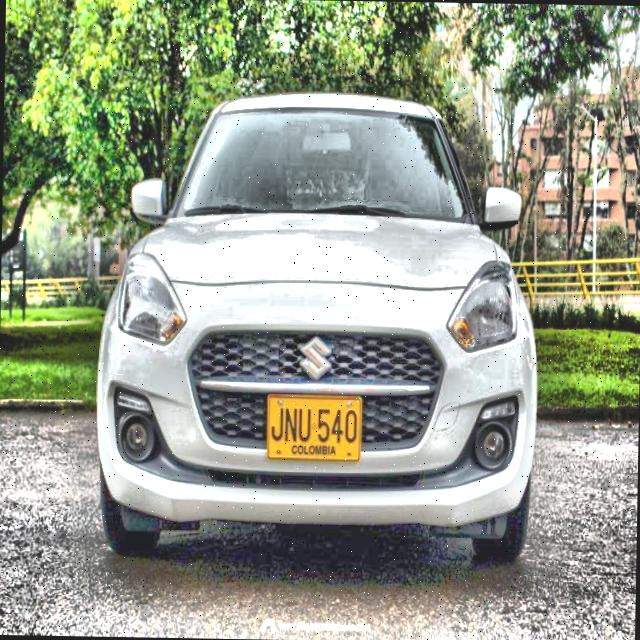plate: (266, 394, 361, 462)
